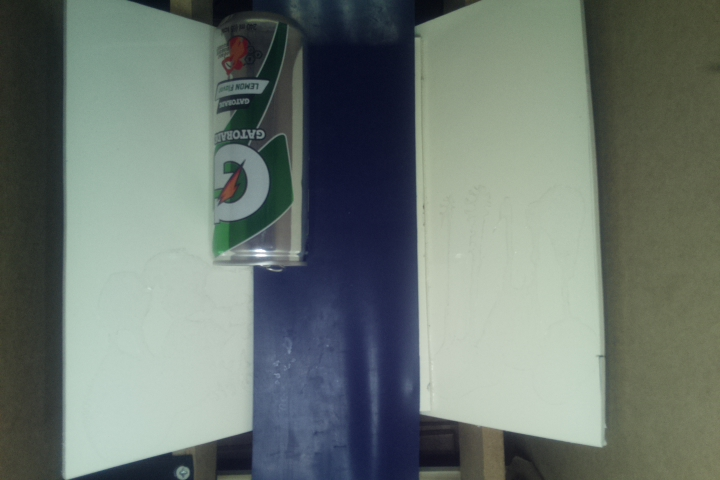can: (211, 11, 311, 273)
